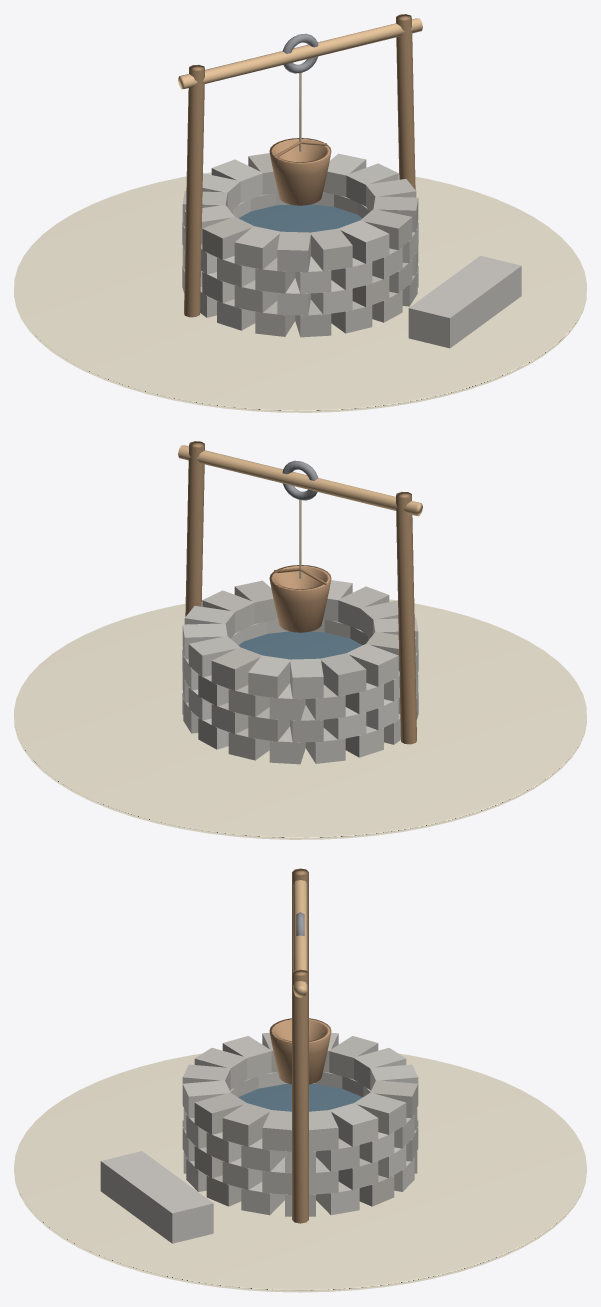
Rendered from qudyq.glb.
The picture shows the model from 3 angles, top to bottom: view 1: azimuth 30°, elevation 25°; view 2: azimuth 150°, elevation 25°; view 3: azimuth 270°, elevation 25°; orthographic projection.
Visible parts, largest first — view 1: ground, stone (×30), post (×2), trough, qauga, beam, water, pulley; view 2: ground, stone (×30), post (×2), qauga, beam, water, pulley; view 3: ground, stone (×28), trough, post (×2), qauga, water, beam.
Part boxes in pixels (bbox=[...]): ground: bbox=[14, 172, 586, 412]; stone (×30): bbox=[184, 153, 418, 337]; post (×2): bbox=[184, 14, 415, 317]; trough: bbox=[408, 255, 521, 348]; qauga: bbox=[269, 138, 331, 205]; beam: bbox=[178, 18, 422, 89]; water: bbox=[238, 204, 362, 232]; pulley: bbox=[282, 33, 318, 73]; ground: bbox=[14, 599, 586, 839]; stone (×30): bbox=[182, 580, 416, 764]; post (×2): bbox=[185, 441, 416, 744]; qauga: bbox=[269, 565, 331, 632]; beam: bbox=[178, 445, 422, 516]; water: bbox=[238, 631, 362, 659]; pulley: bbox=[282, 460, 318, 500]; ground: bbox=[14, 1053, 586, 1292]; stone (×28): bbox=[182, 1036, 418, 1215]; trough: bbox=[100, 1151, 213, 1243]; post (×2): bbox=[292, 868, 308, 1223]; qauga: bbox=[269, 1018, 331, 1084]; water: bbox=[238, 1084, 362, 1111]; beam: bbox=[293, 880, 307, 997].
Size of the model in its own units: 4.8 by 2.38 by 4.8.
